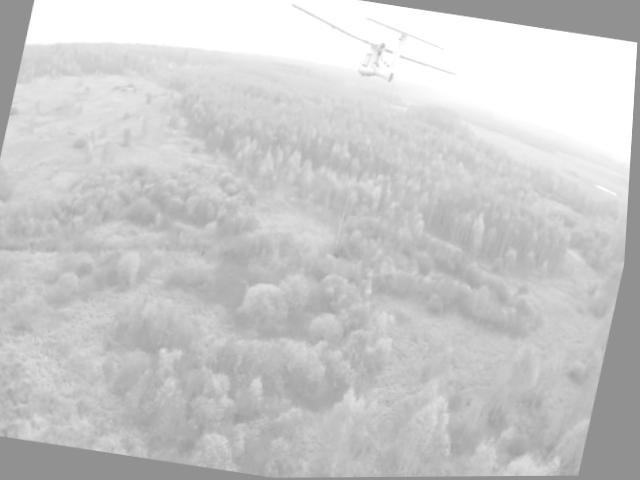hedef: (267, 0, 471, 110)
